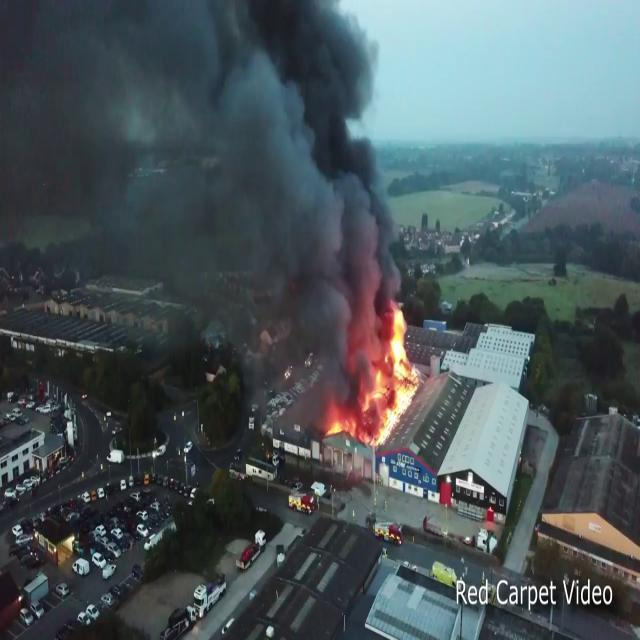Fire: (366, 302, 420, 436), (323, 407, 360, 445)
Smoke: (0, 0, 405, 364)
